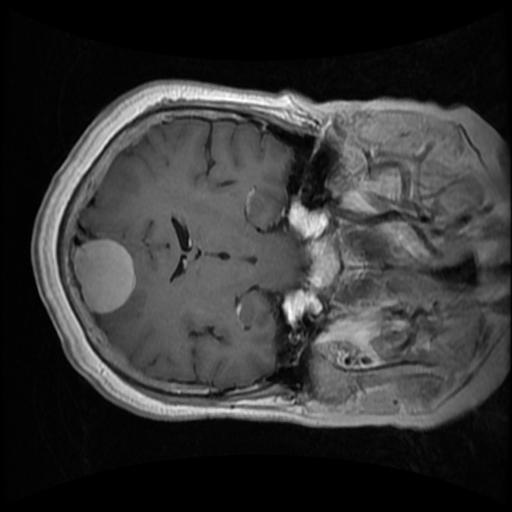meningioma: (73, 239, 134, 314)
